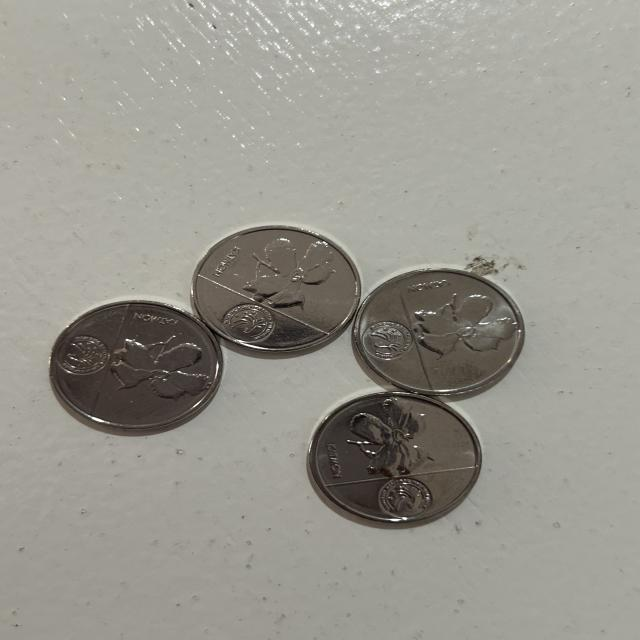25Cent_New_Back: (91, 326, 214, 406), (339, 402, 448, 479), (233, 237, 337, 305), (406, 292, 504, 364)
